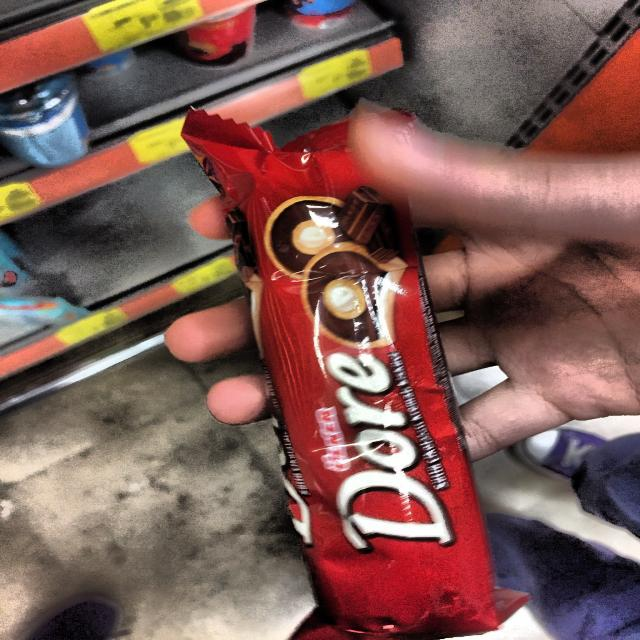Plastic: (179, 101, 536, 640)
